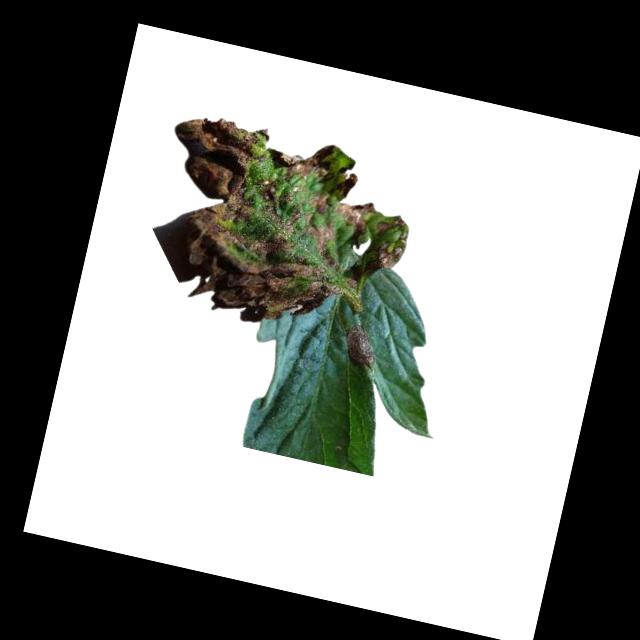Early_blight: (139, 107, 425, 342), (338, 324, 382, 373)
